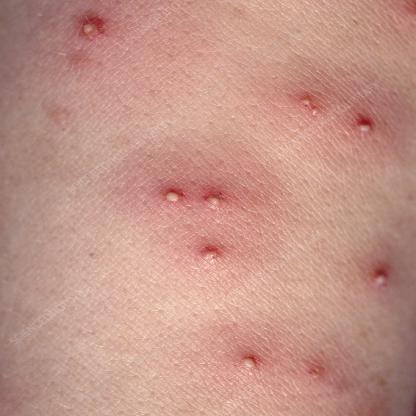Fire ant: (362, 262, 399, 287), (293, 90, 322, 121), (73, 13, 103, 40), (157, 184, 186, 210), (196, 242, 224, 264), (236, 350, 261, 374), (350, 114, 377, 136), (200, 188, 225, 207), (304, 362, 328, 381)
